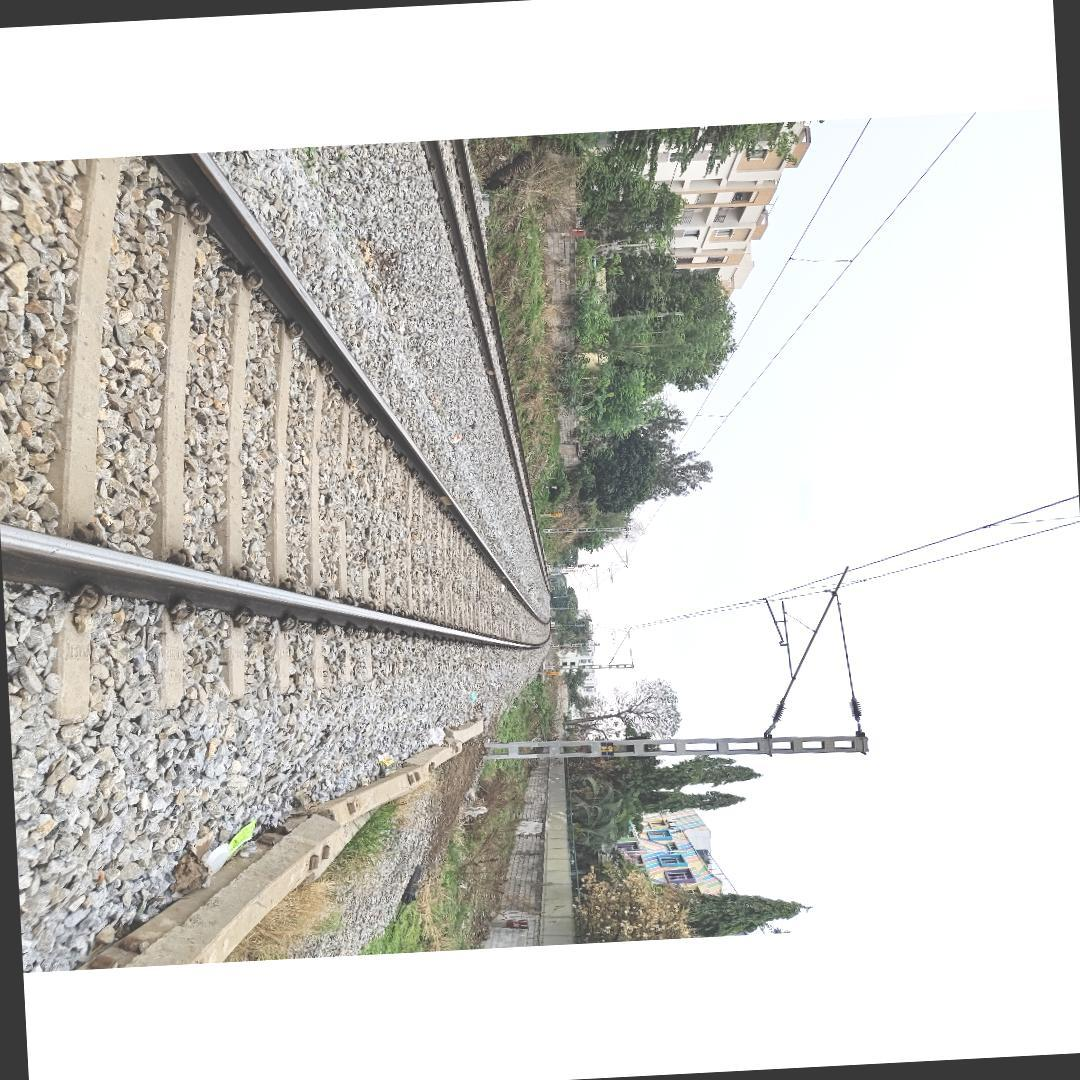track: (0, 154, 558, 655)
